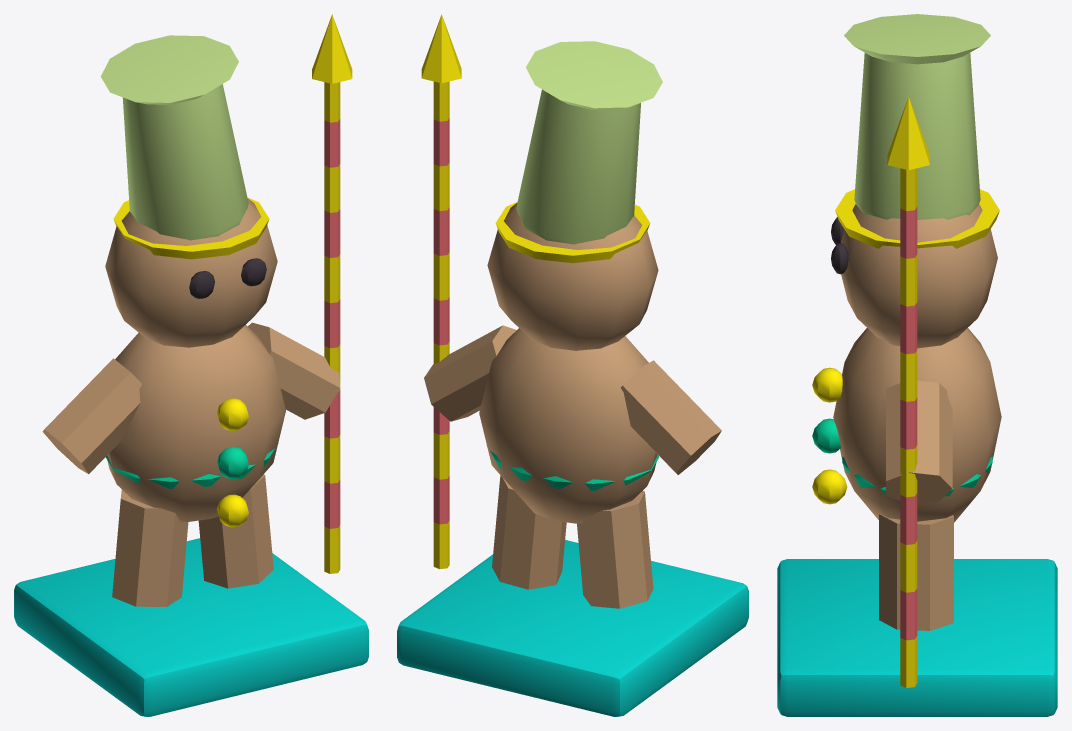
Rendered from TW_EyelessGuard.fbx.
The picture shows the model from 3 angles, left to right: view 1: azimuth 30°, elevation 25°; view 2: azimuth 150°, elevation 25°; view 3: azimuth 270°, elevation 25°; orthographic projection. The views are drawn at different scales.
Parts seen in each view (by area): view 1: Body; view 2: Body; view 3: Body.
Boxes of the visible parts, left/top/right/bottom form: Body: left=14, top=14, right=368, bottom=716; Body: left=397, top=14, right=748, bottom=716; Body: left=777, top=14, right=1057, bottom=716.
Size of the model in its own units: 2.09 by 4 by 1.6.
